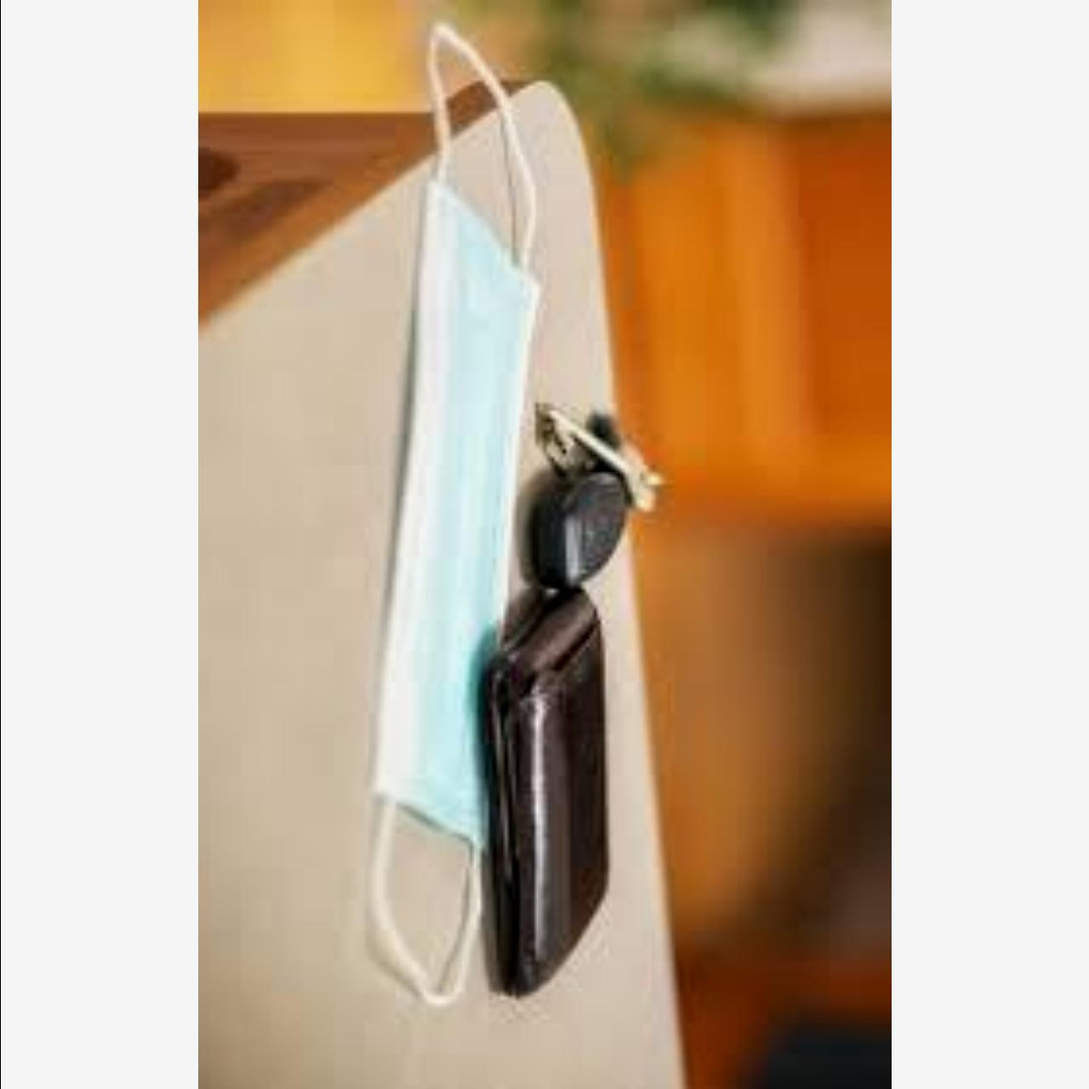wallet: (459, 603, 630, 1032)
